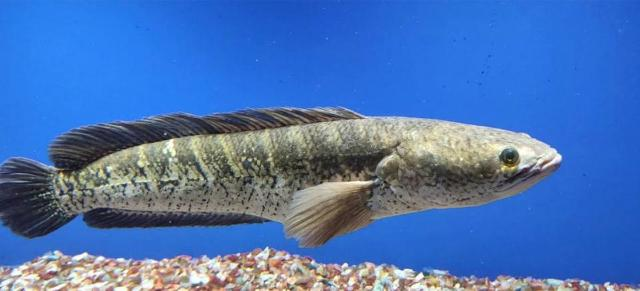Mulut: (482, 137, 570, 211)
Sirip Anal: (82, 204, 274, 246)
Sirip Dada: (272, 168, 411, 258)
Sirip Ekor: (0, 154, 76, 250)
Sirip Punggung: (44, 96, 368, 178)
